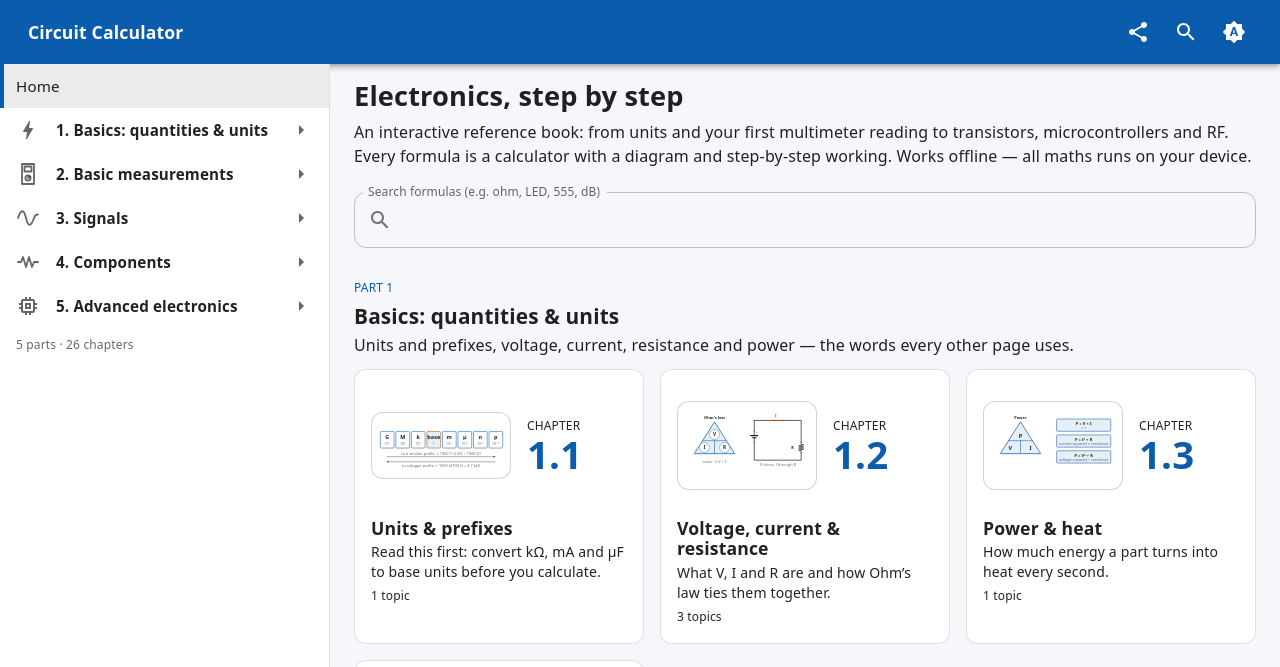
Test: search dialog › finds chapters and topics by title as you type, chapters first
The image size is (1280, 667).
Click the button with test id "search-button" at [1186, 32], box [1164,10,1208,54]
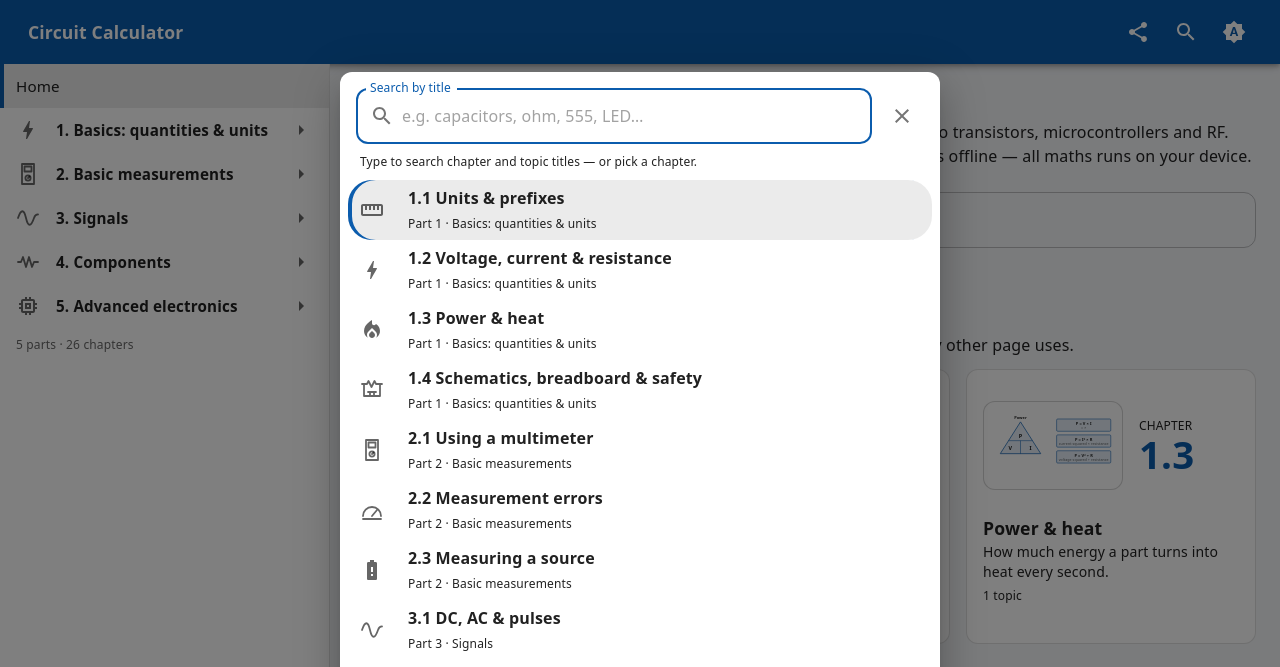
Type "capac" into the dropdown with test id "search-input" at [637, 116], box [402,88,872,144]
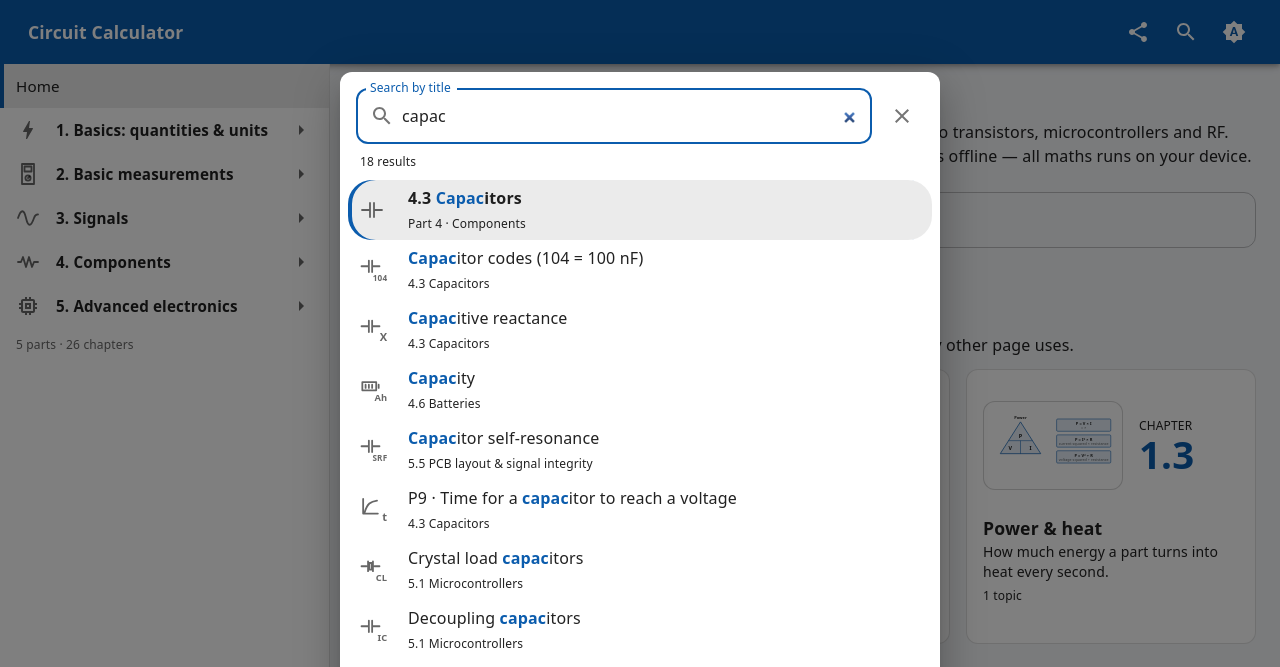
Now the option "4.3 Capacitors Part 4 · Components" is shown, box [348,180,932,240]
Now the option with test id "result-topic-cap-reactance" shows "4.3 Capacitors", box [360,307,568,352]
Now the message with test id "search-status" reads "18 results", box [360,153,416,170]
